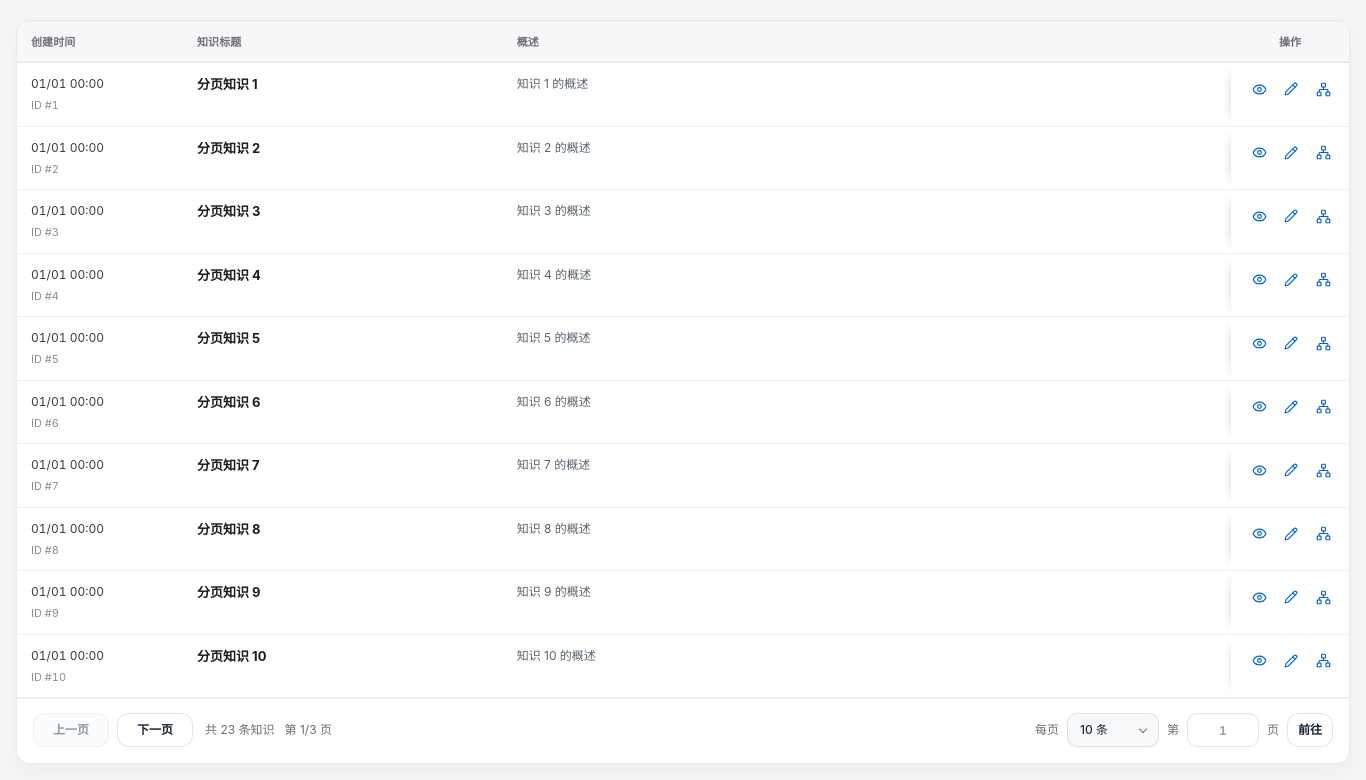
Test: 知识记忆分页 › 23 条知识按 10、10、3 条翻页，切换每页 20 条后回到第一页
(page scrolled)
Expected: the dropdown named "每页条数" shows "10 条", [1067,713,1159,747]
Expected: the text "分页知识 1" is shown, [197,76,258,92]
Click the button "下一页" at [155, 730], box [117,713,193,747]
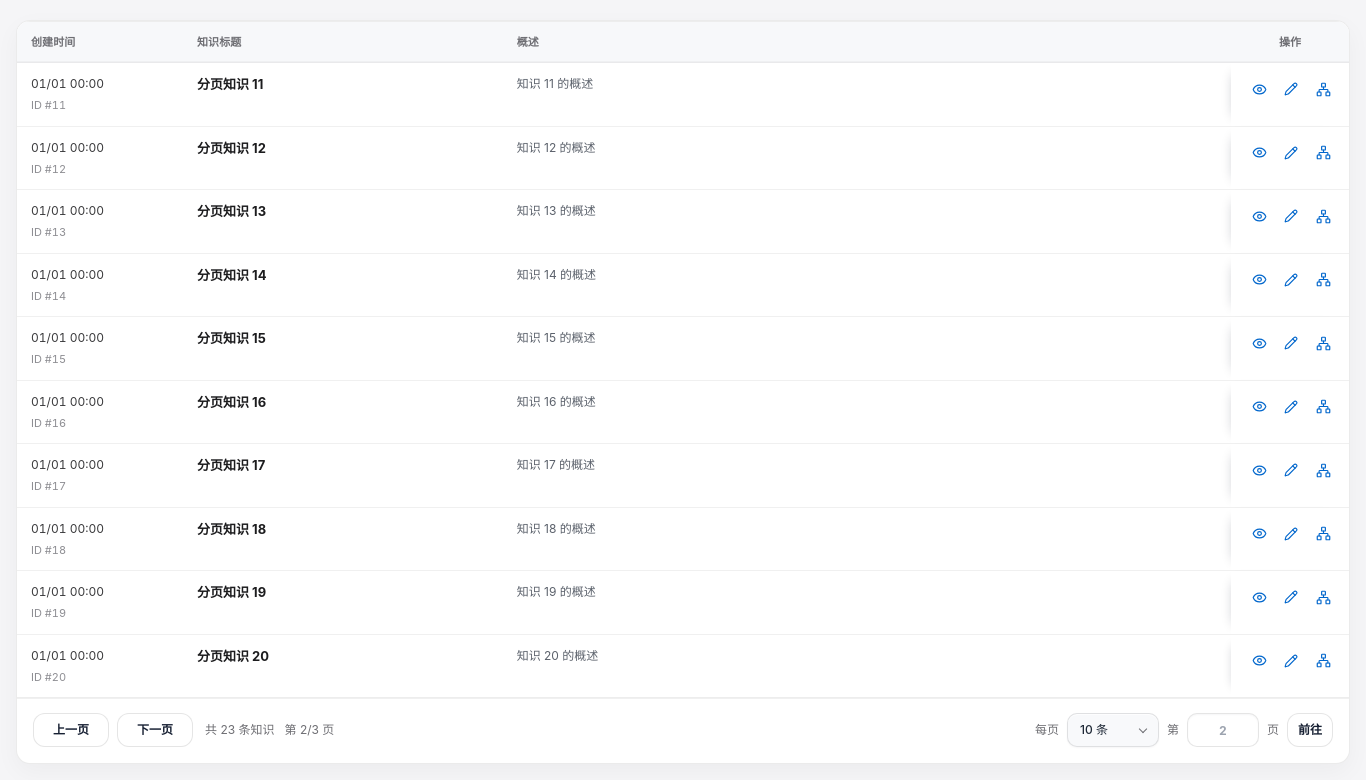
Expected: the text "分页知识 11" is shown, [197,76,263,92]
Expected: the text "分页知识 20" is shown, [197,648,269,664]
Expected: the text "第 2/3 页" is shown, [284,721,334,739]
Click the button "下一页" at [155, 730], box [117,713,193,747]
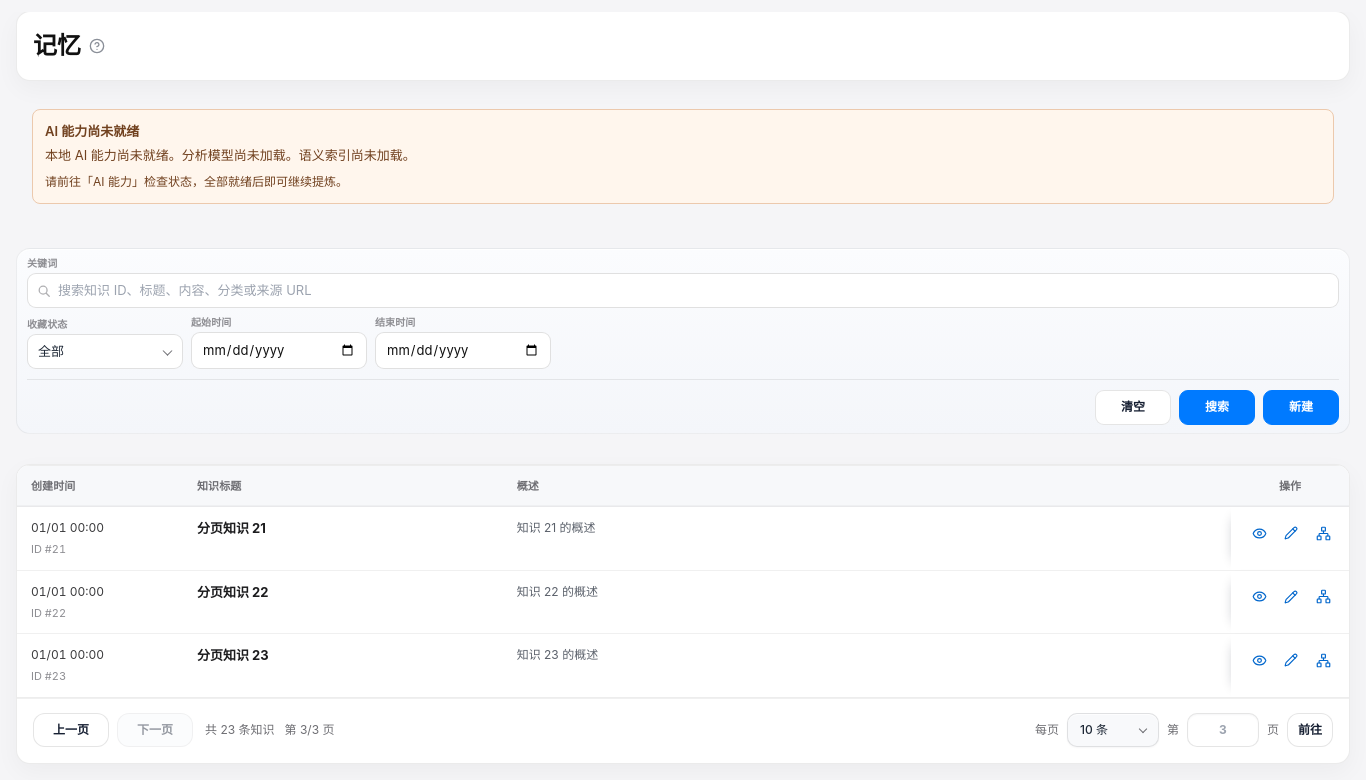
Expected: the text "分页知识 21" is shown, [197,520,266,536]
Expected: the text "分页知识 23" is shown, [197,647,269,663]
Expected: the button "下一页" is disabled, [117,713,193,747]
Select "20 条" in the dropdown named "每页条数" at [1113, 730], box [1067,713,1159,747]
(page scrolled)
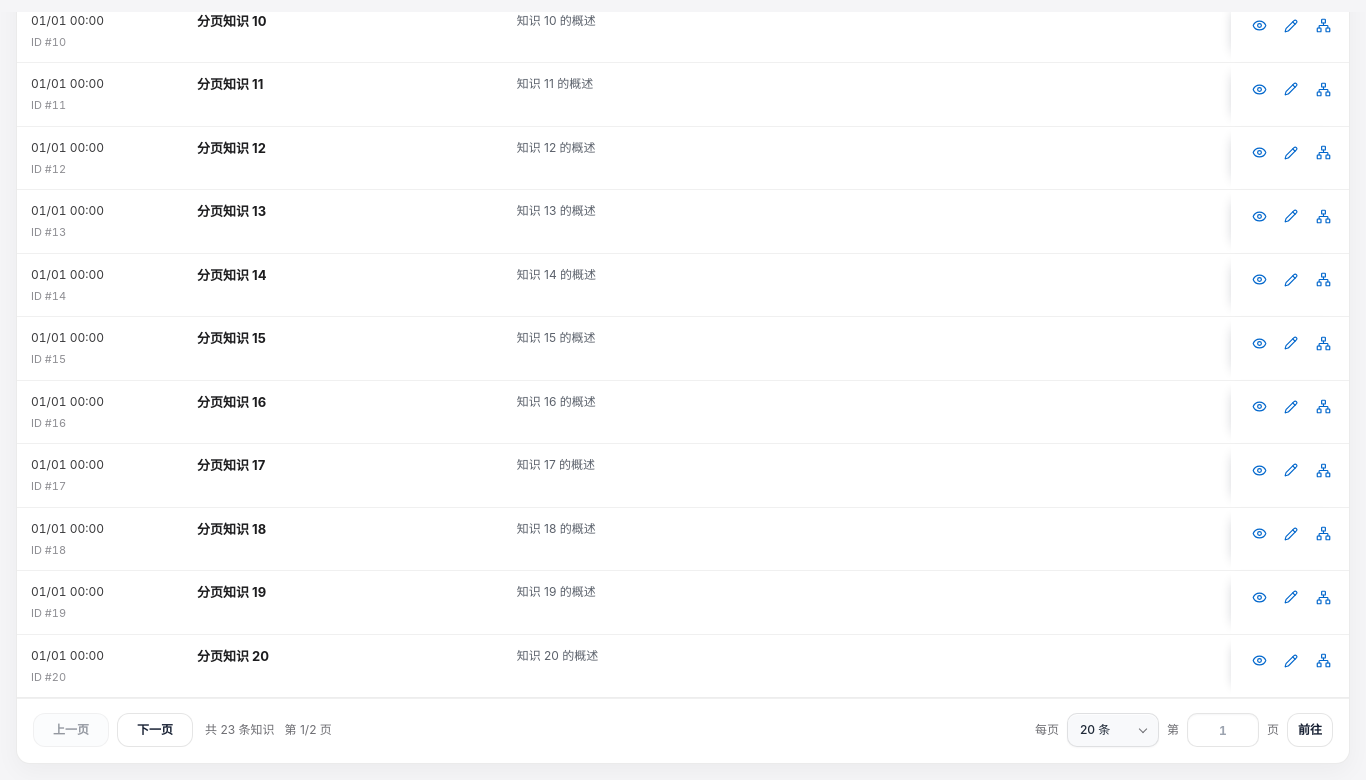
Expected: the text "分页知识 20" is shown, [197,648,269,664]
Expected: the text "第 1/2 页" is shown, [284,721,332,739]
